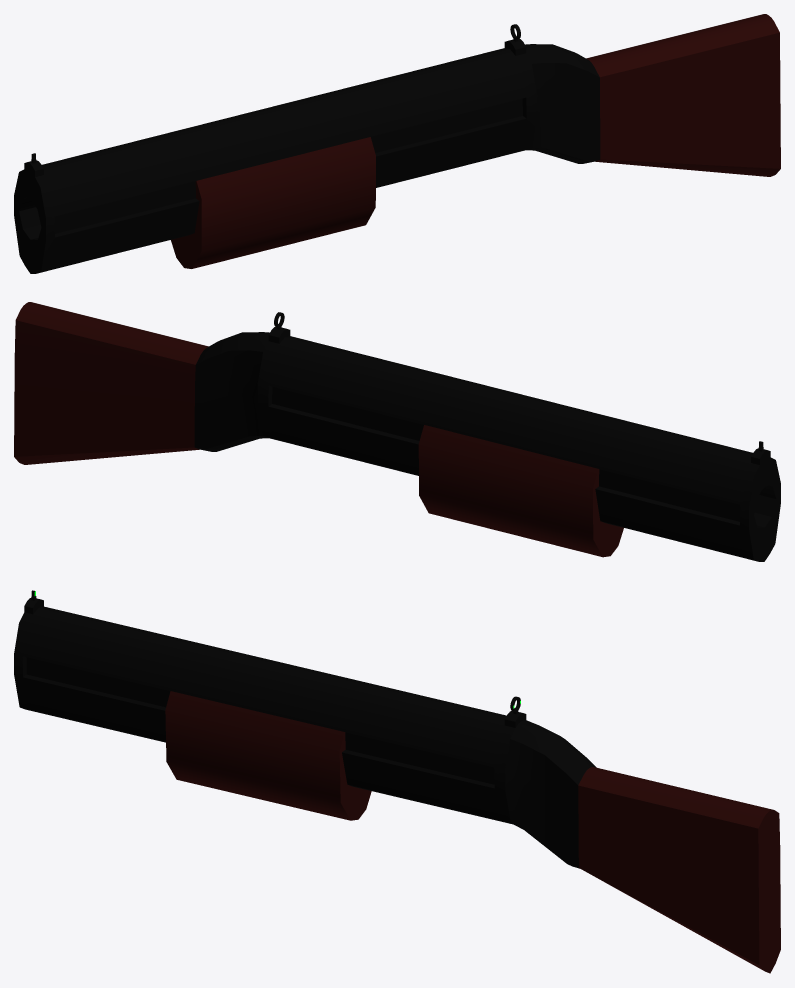
Rendered from shotgun.fbx.
3 renders of one model, top to bottom at view 1: azimuth 30°, elevation 25°; view 2: azimuth 150°, elevation 25°; view 3: azimuth 330°, elevation 25°, orthographic.
Visible parts, largest first — view 1: Shotgun; view 2: Shotgun; view 3: Shotgun.
Boxes of the visible parts, left/top/right/bottom form: Shotgun: left=14, top=14, right=780, bottom=273; Shotgun: left=14, top=302, right=780, bottom=561; Shotgun: left=14, top=590, right=780, bottom=973.
Size of the model in its own units: 449 by 124 by 38.44.
